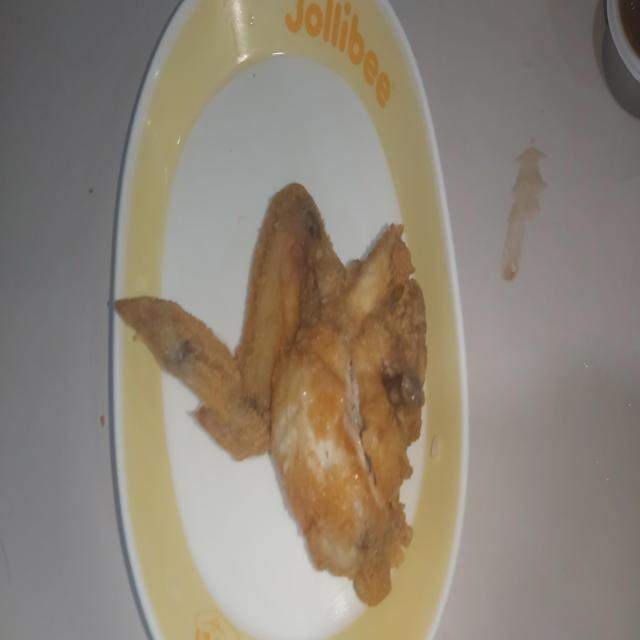Chicken -Fried Chicken-: (102, 176, 416, 622)
